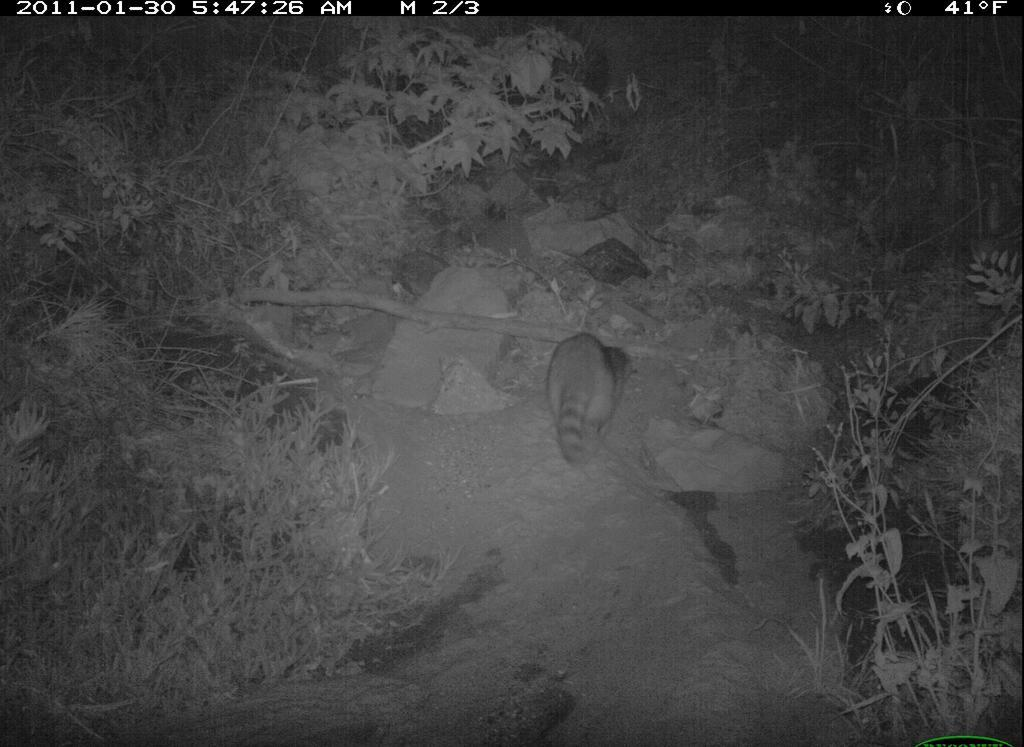raccoon: (543, 329, 640, 472)
